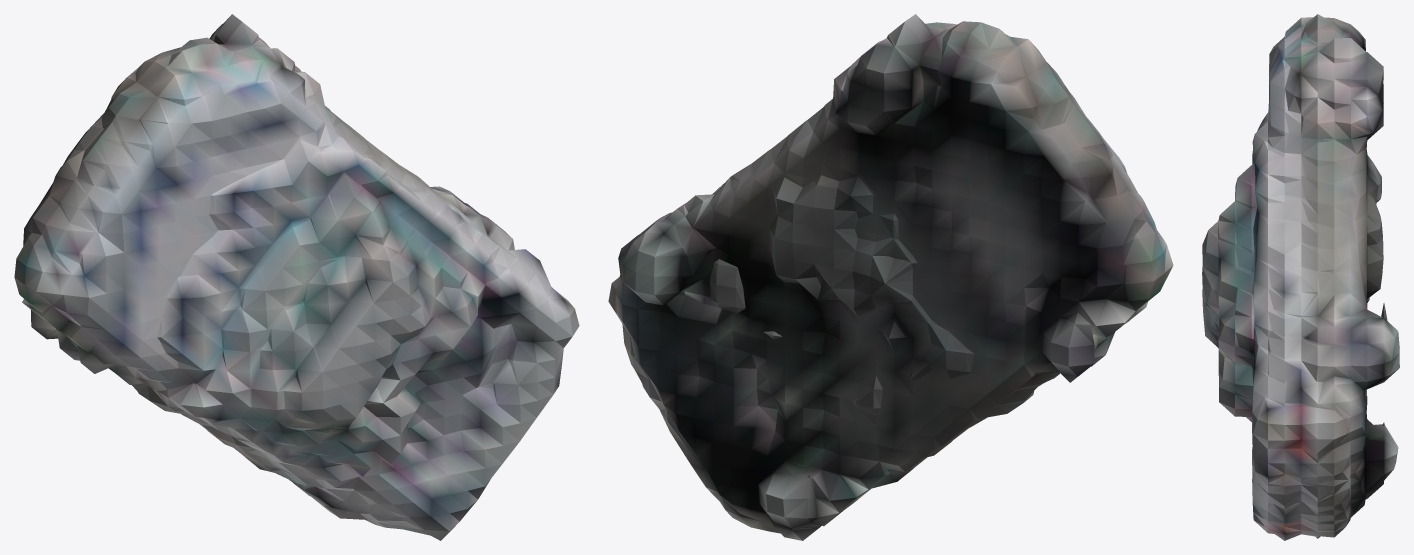
File: 000007_car_mercedes_car wallpapers_10240_64.glb
3 renders of one model, left to right at view 1: azimuth 30°, elevation 25°; view 2: azimuth 150°, elevation 25°; view 3: azimuth 270°, elevation 25°, orthographic. The views are drawn at different scales.
Visible parts, largest first — view 1: world; view 2: world; view 3: world.
Part boxes in pixels (bbox=[...]): world: bbox=[14, 14, 579, 540]; world: bbox=[608, 14, 1173, 540]; world: bbox=[1202, 14, 1399, 540].
Bounding box in the file's own units: 0.8268 × 0.8056 × 0.3297.
